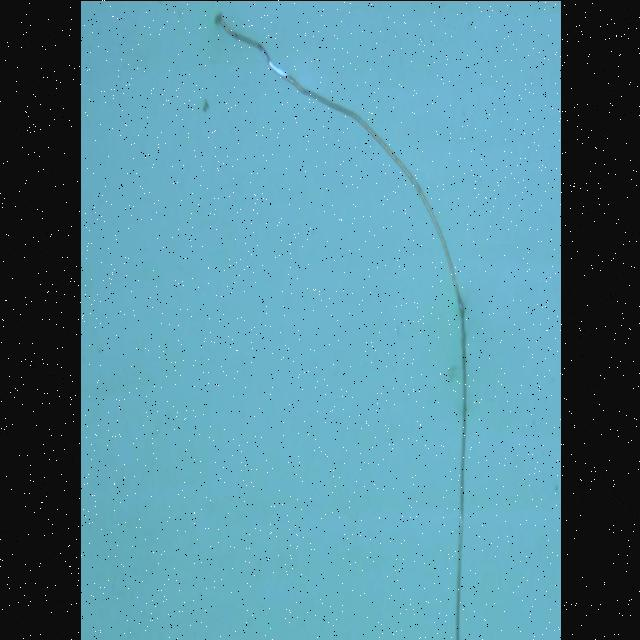Fibre: (212, 9, 469, 640)
